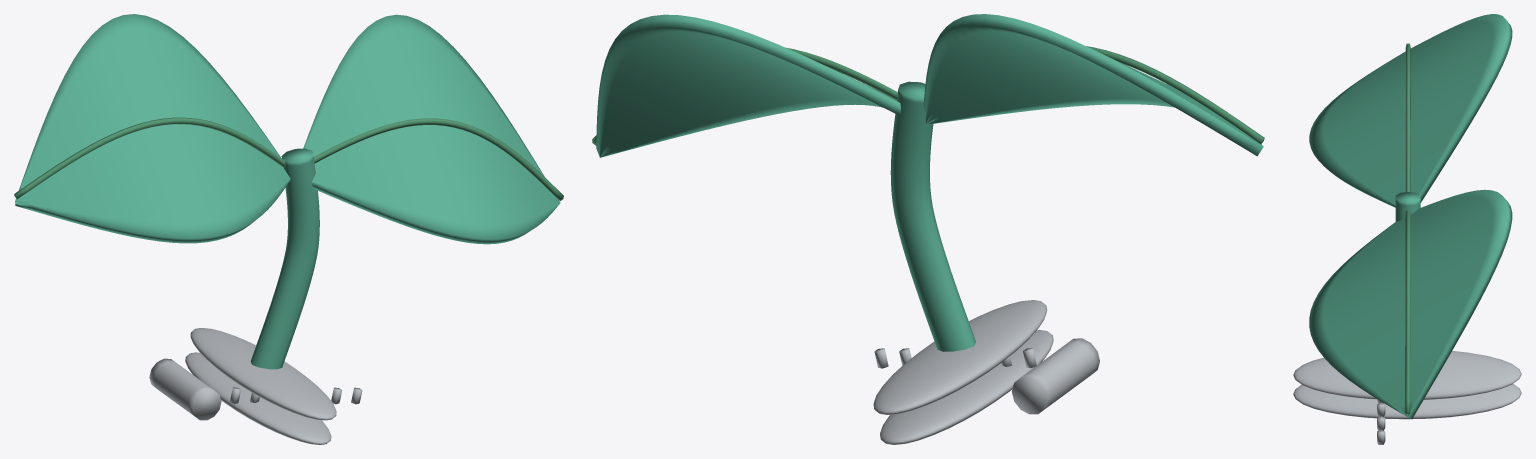
File: Feminine-box-braids-pashmina250-sprout.glb
The picture shows the model from 3 angles, left to right: view 1: azimuth 30°, elevation 25°; view 2: azimuth 150°, elevation 25°; view 3: azimuth 270°, elevation 25°; orthographic projection. The views are drawn at different scales.
Parts seen in each view (by area): view 1: 226 extra / Accessory / mint226, 226 extra / Sprout / clip silver235, 226 extra / Sprout / leaf vein235; view 2: 226 extra / Accessory / mint226, 226 extra / Sprout / clip silver235, 226 extra / Sprout / leaf vein235; view 3: 226 extra / Accessory / mint226, 226 extra / Sprout / clip silver235, 226 extra / Sprout / leaf vein235.
Boxes of the visible parts, x1,y1,x2,y2 form: 226 extra / Accessory / mint226: (15,14,560,369); 226 extra / Sprout / clip silver235: (149,328,362,444); 226 extra / Sprout / leaf vein235: (14,117,563,200); 226 extra / Accessory / mint226: (596,14,1263,351); 226 extra / Sprout / clip silver235: (873,300,1099,444); 226 extra / Sprout / leaf vein235: (592,46,1264,145); 226 extra / Accessory / mint226: (1309,14,1512,418); 226 extra / Sprout / clip silver235: (1293,351,1521,444); 226 extra / Sprout / leaf vein235: (1405,43,1410,414).
Bounding box in the file's own units: 0.2644 × 0.174 × 0.104.
